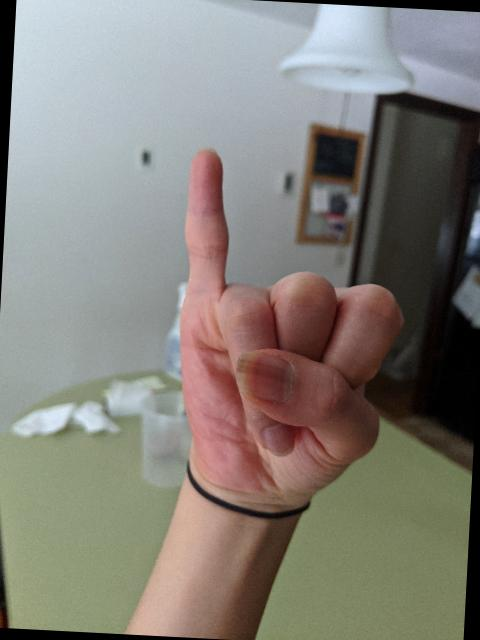I: (159, 141, 420, 526)
